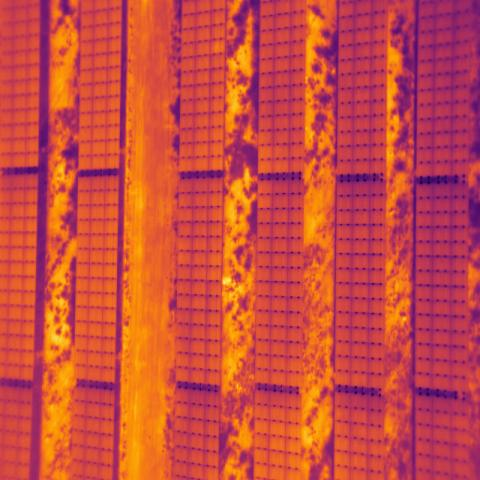fault: (211, 39, 225, 53)
